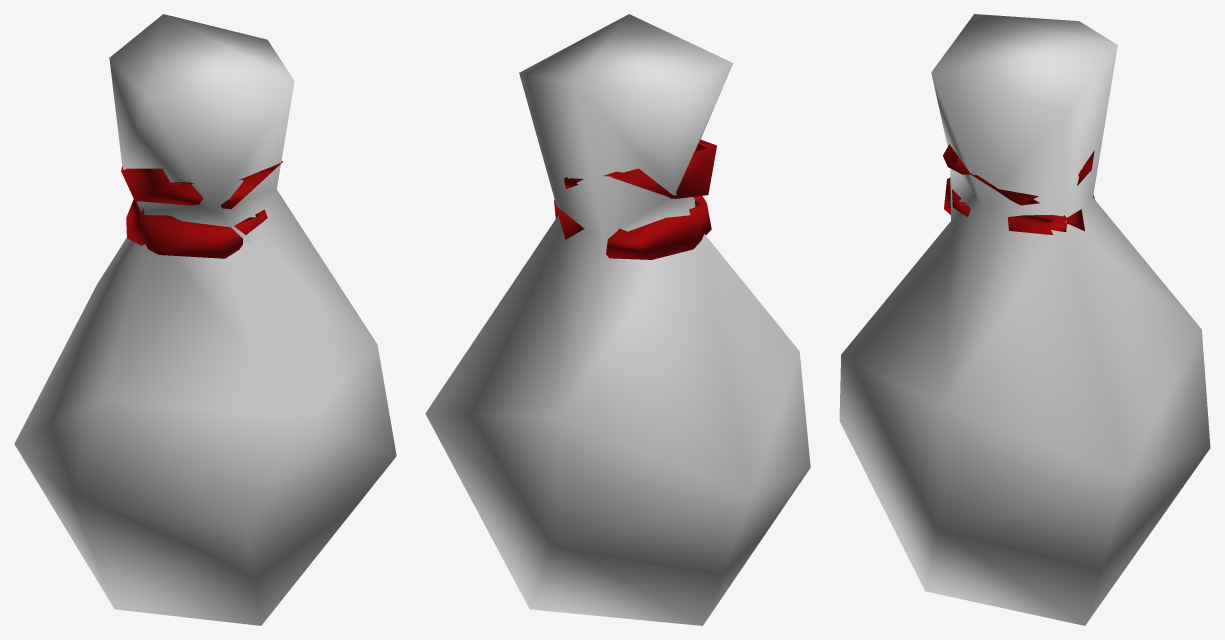
File: PinoBoliche.obj
3 renders of one model, left to right at view 1: azimuth 30°, elevation 25°; view 2: azimuth 150°, elevation 25°; view 3: azimuth 270°, elevation 25°, orthographic.
Visible parts, largest first — view 1: bolaboliche.001; view 2: bolaboliche.001; view 3: bolaboliche.001.
Boxes of the visible parts, x1,y1,x2,y2 form: bolaboliche.001: (14, 14, 396, 625); bolaboliche.001: (425, 14, 810, 625); bolaboliche.001: (839, 14, 1210, 625).
Size of the model in its own units: 0.3188 by 0.5457 by 0.3329.
